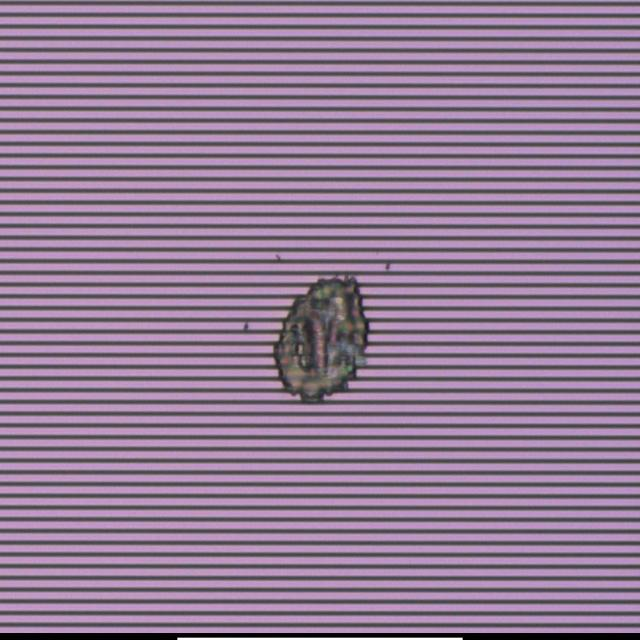03_intrusion: (268, 275, 377, 409), (235, 318, 253, 336), (270, 247, 286, 265), (382, 260, 395, 273)
